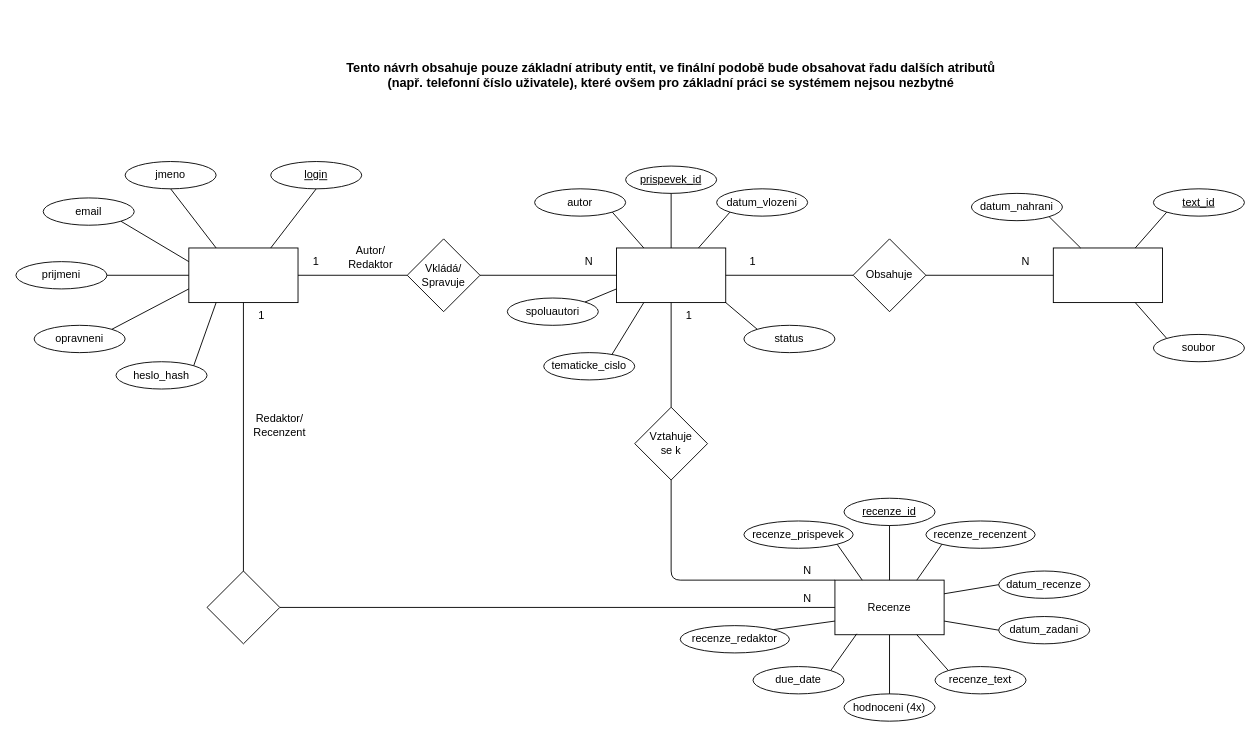
The diagram is 1260 pixels wide and 737 high, and some of its shapes have lost their labels. Each missing label, with the centre of its shape:
Prispevek: point (671, 275)
Text: point (1107, 275)
Uzivatel: point (243, 275)
Vkládá/ Upravuje: point (243, 607)
